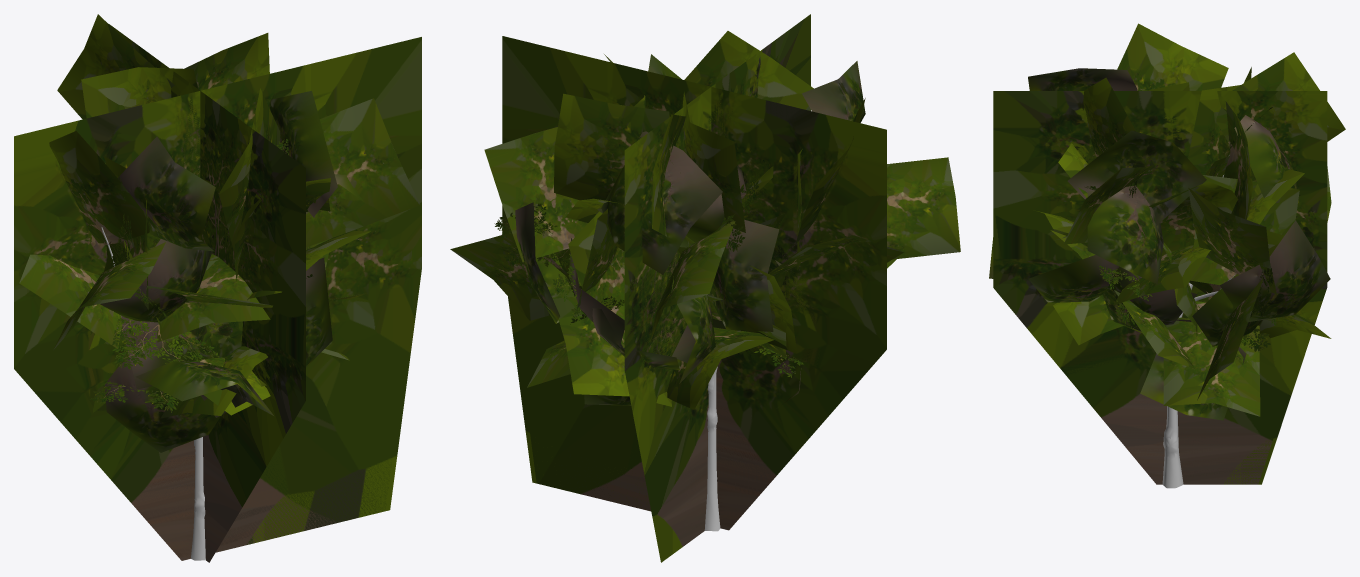
Rendered from Citrus1.fbx.
3 renders of one model, left to right at view 1: azimuth 30°, elevation 25°; view 2: azimuth 150°, elevation 25°; view 3: azimuth 270°, elevation 25°, orthographic. The views are drawn at different scales.
Parts seen in each view (by area): view 1: Billboard, LOD0; view 2: Billboard, LOD0; view 3: LOD0, Billboard.
Boxes of the visible parts, box(x1,y1,x2,y2) form: Billboard: box(14, 24, 421, 562); LOD0: box(19, 14, 419, 560); Billboard: box(502, 14, 886, 562); LOD0: box(450, 31, 960, 531); LOD0: box(989, 23, 1345, 488); Billboard: box(993, 91, 1327, 484).
Size of what is drawn, in the model's own units: 282 by 300 by 231.
